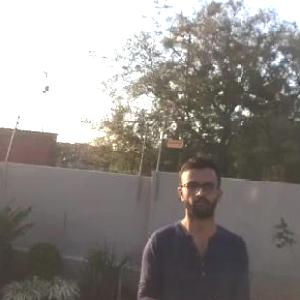follow: (132, 150, 255, 299)
